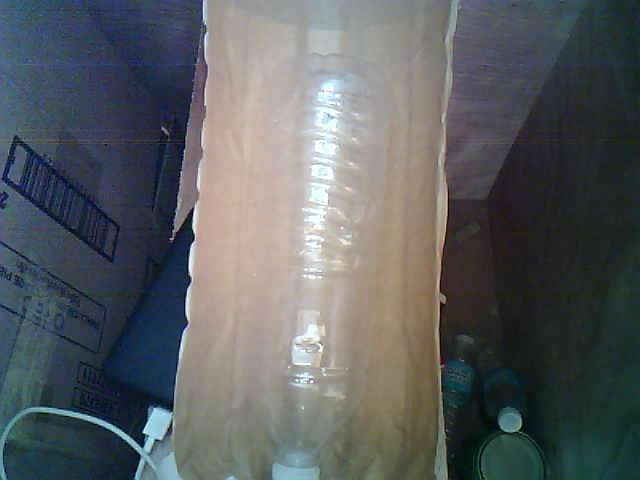large_bottle: (238, 57, 406, 480)
